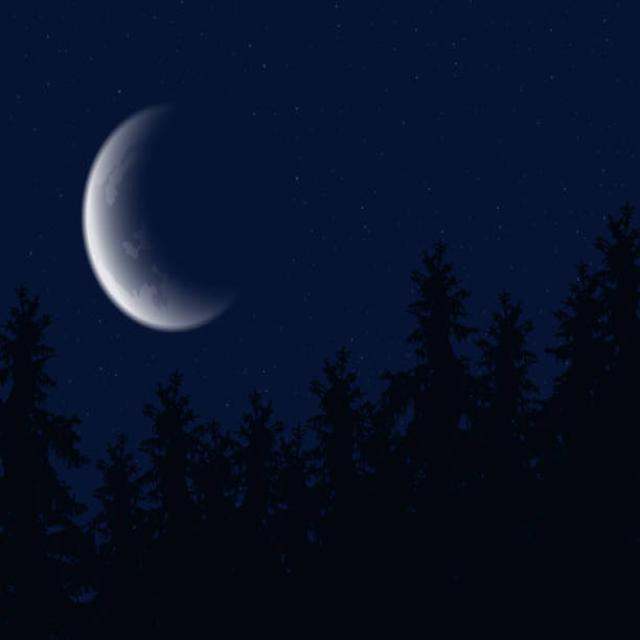moon: (74, 69, 270, 332)
